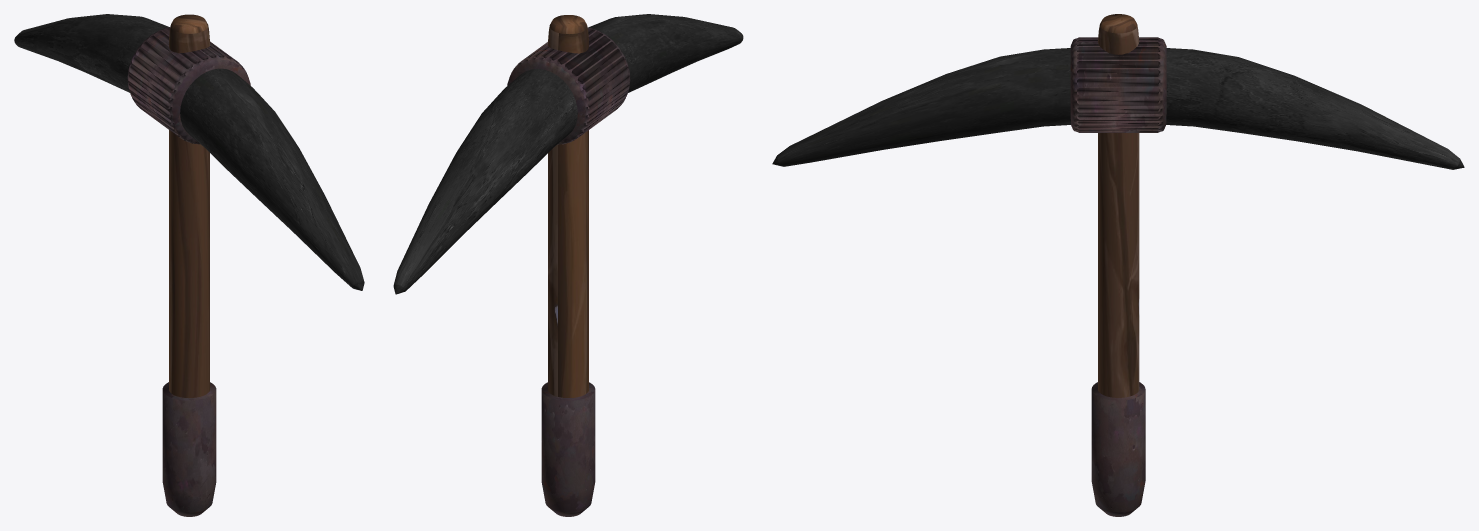
Rendered from pickaxe.fbx.
3 views of the same model, side by side, from view 1: azimuth 30°, elevation 25°; view 2: azimuth 150°, elevation 25°; view 3: azimuth 270°, elevation 25° (orthographic).
Parts seen in each view (by area): view 1: Cylinder, Cylinder.001, Cylinder.003, Cylinder.002; view 2: Cylinder, Cylinder.001, Cylinder.003, Cylinder.002; view 3: Cylinder, Cylinder.001, Cylinder.002, Cylinder.003.
Part boxes in pixels (x1,y1,x2,y2): Cylinder: (14,14,364,290); Cylinder.001: (169,14,209,397); Cylinder.003: (162,382,216,516); Cylinder.002: (127,27,250,144); Cylinder: (393,14,743,294); Cylinder.001: (548,15,588,397); Cylinder.003: (541,382,595,516); Cylinder.002: (507,27,630,144); Cylinder: (772,48,1464,169); Cylinder.001: (1098,14,1139,397); Cylinder.002: (1070,37,1166,132); Cylinder.003: (1091,382,1145,516).
Bounding box in the file's own units: 68.19 × 385 × 493.
